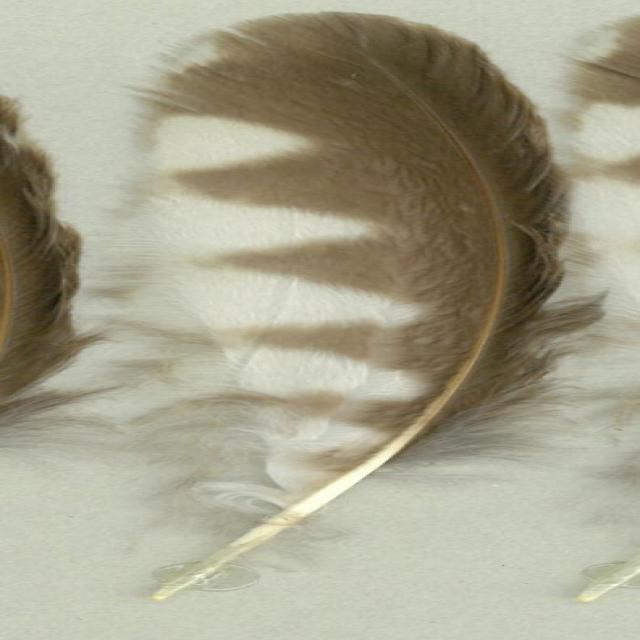feather: (113, 8, 630, 596)
